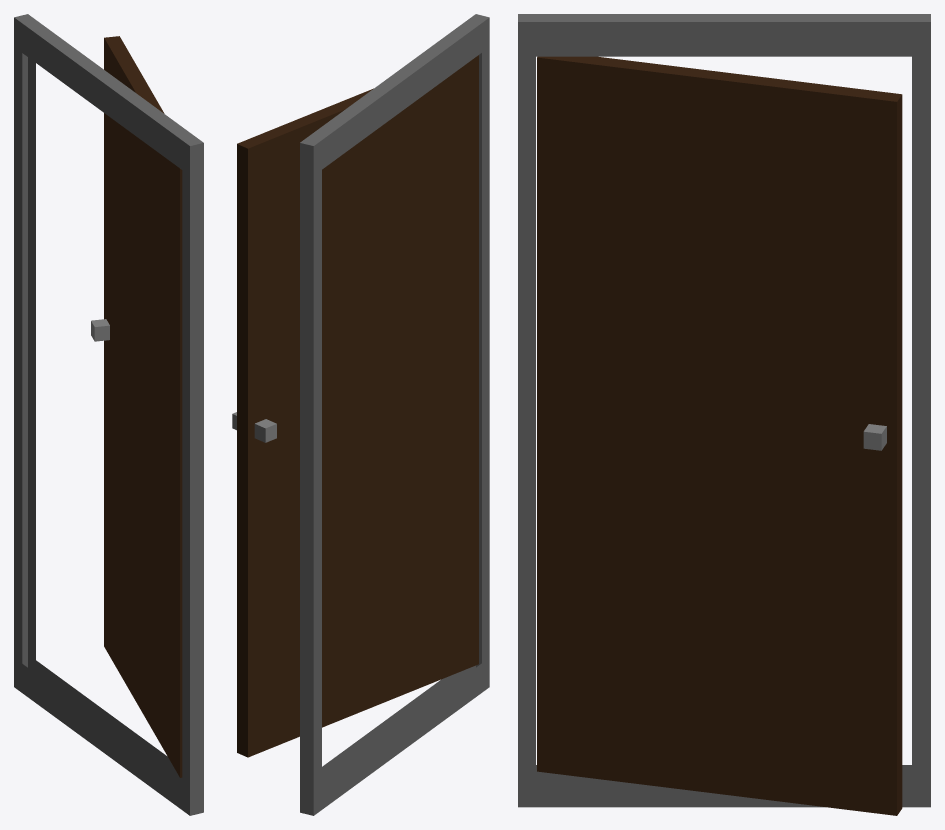
File: DoorWIP.fbx
3 renders of one model, left to right at view 1: azimuth 30°, elevation 25°; view 2: azimuth 150°, elevation 25°; view 3: azimuth 270°, elevation 25°, orthographic. The views are drawn at different scales.
Visible parts, largest first — view 1: Door, Doorframe; view 2: Door, Doorframe; view 3: Door, Doorframe.
Boxes of the visible parts, x1,y1,x2,y2 form: Door: (91,36,182,777); Doorframe: (14,14,203,815); Door: (232,55,478,757); Doorframe: (300,14,489,815); Door: (537,56,902,815); Doorframe: (518,14,930,807).
Bounding box in the file's own units: 148 × 924 × 440.
